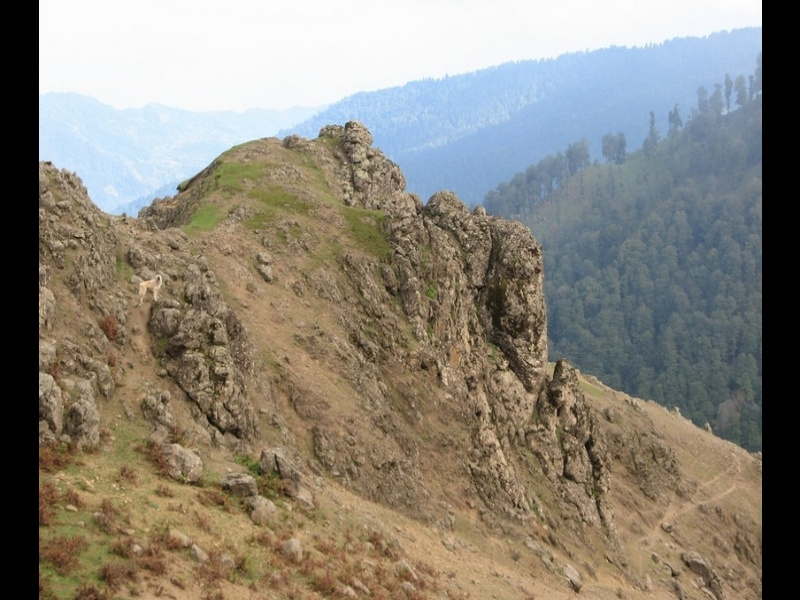dog: (133, 273, 164, 308)
